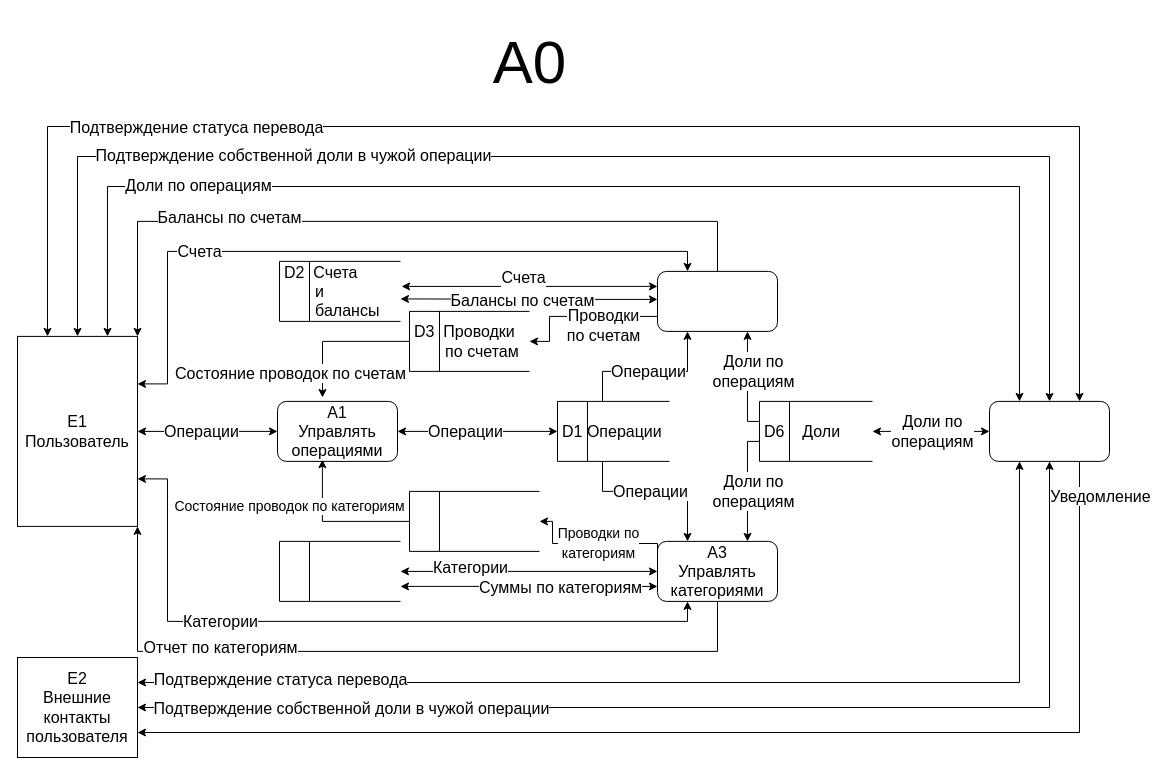
Some shapes in this 1167 by 775 pixel diagram are drawn without their labels. Here are the shapes that lost their labels. From the top down, the centre of each, then its label:
At [717,300]: "A2 Управлять счетами".
At [1049,430]: "A4 Управлять долями".
At [474,520]: "D5 Проводки по категориям".
At [339,570]: "D4 Категории и суммы".
